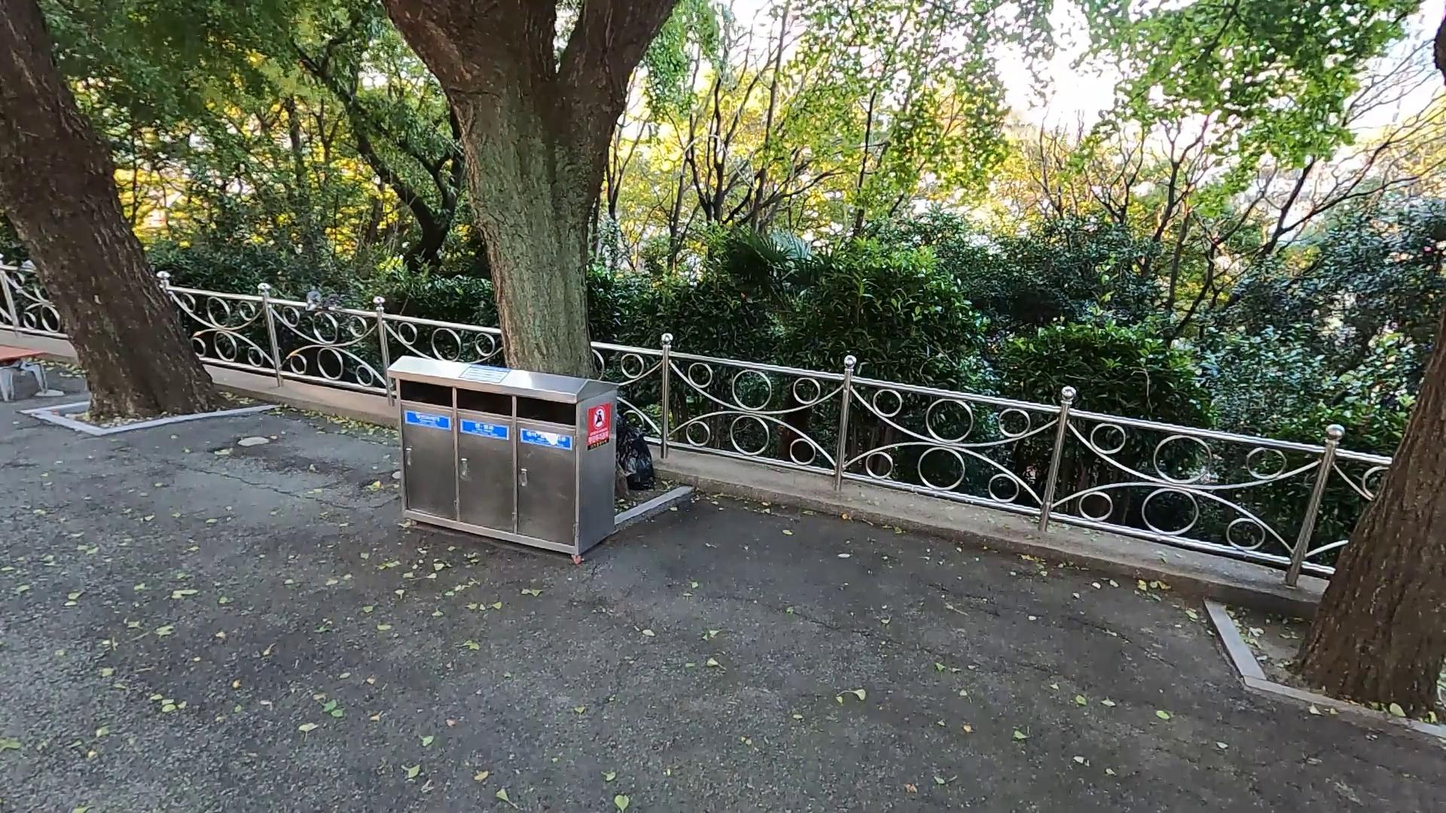trash: (618, 411, 663, 495)
